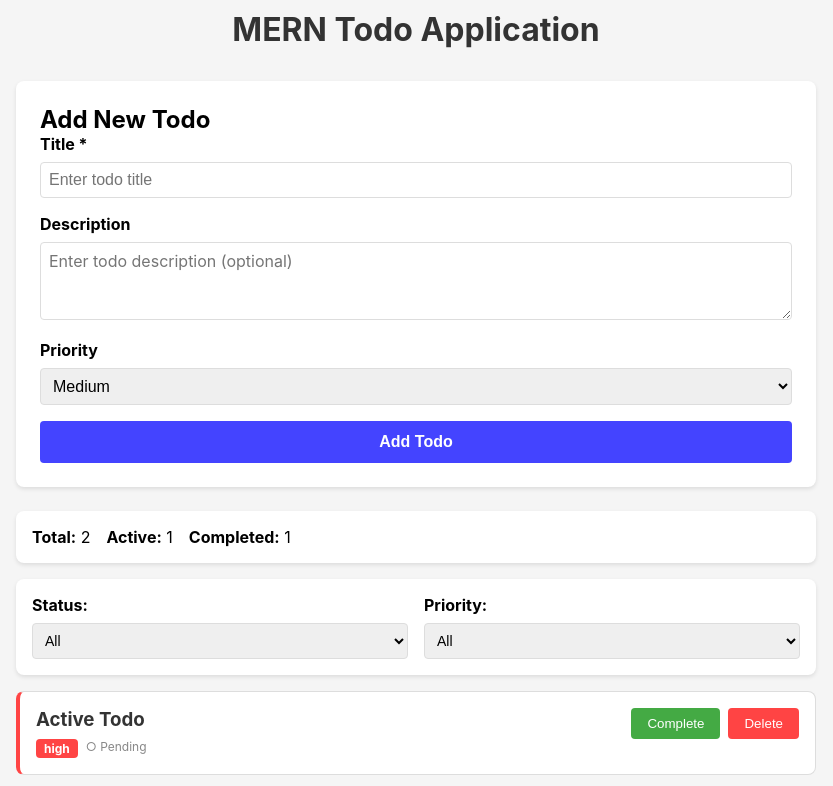
Test: Todo App Integration Tests › filters todos and maintains state
Expected: the heading "Active Todo" is shown, [36,708,145,731]
# Filter by completed
Select "Completed" in the dropdown with test id "status-filter" at {"x": 220, "y": 641}, box [32,623,408,659]
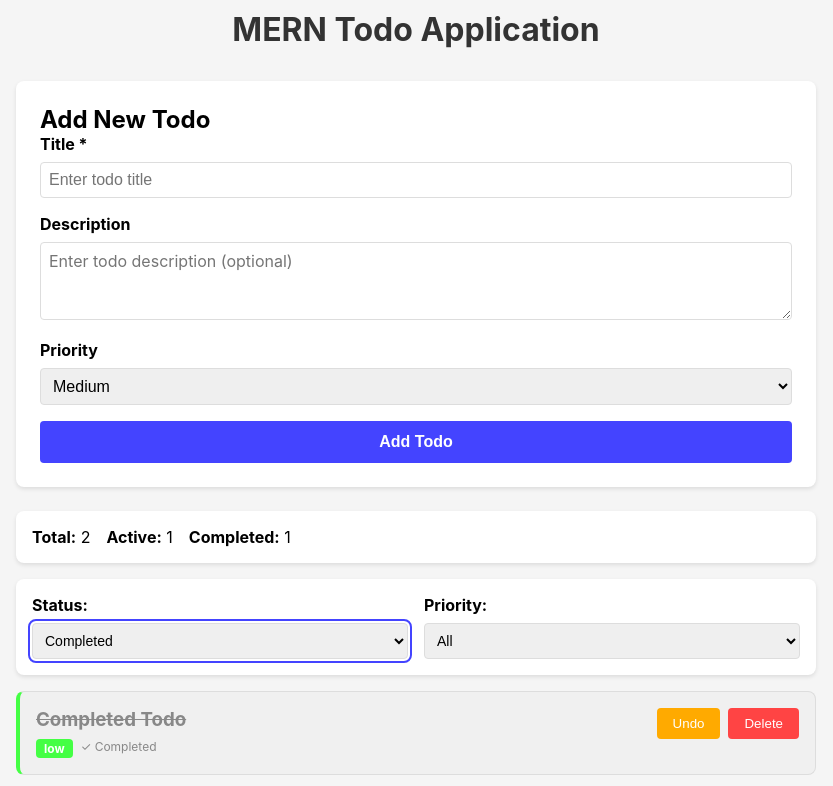
Expected: the heading "Completed Todo" is shown, [36,708,186,731]
Now the heading "Active Todo" is gone
# Filter by active
Select "Active" in the dropdown with test id "status-filter" at {"x": 220, "y": 641}, box [32,623,408,659]
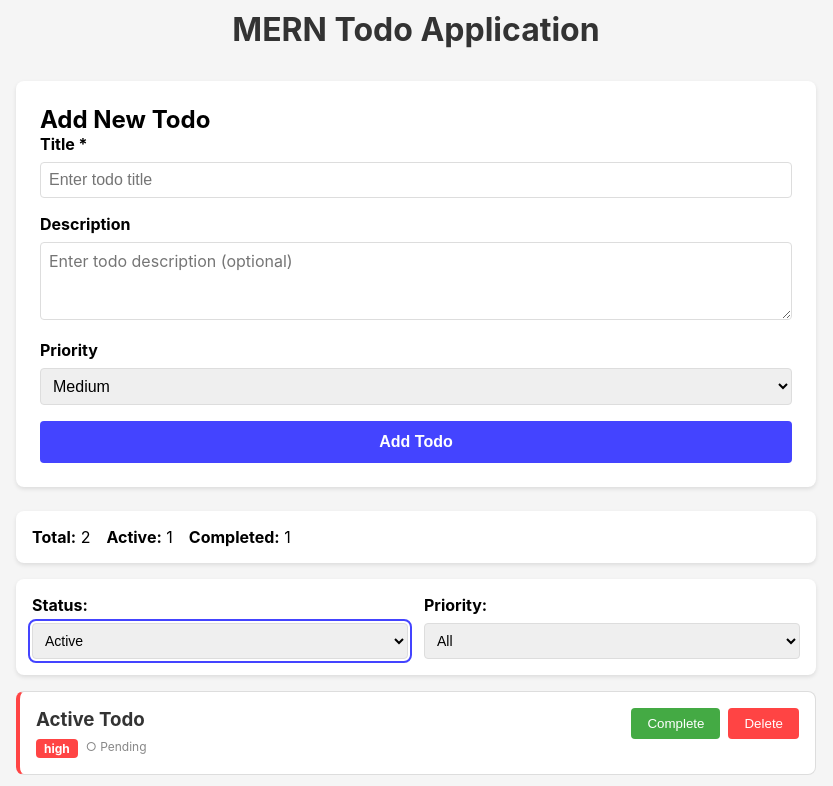
Now the heading "Active Todo" is shown, box [36,708,145,731]
Now the heading "Completed Todo" is gone
